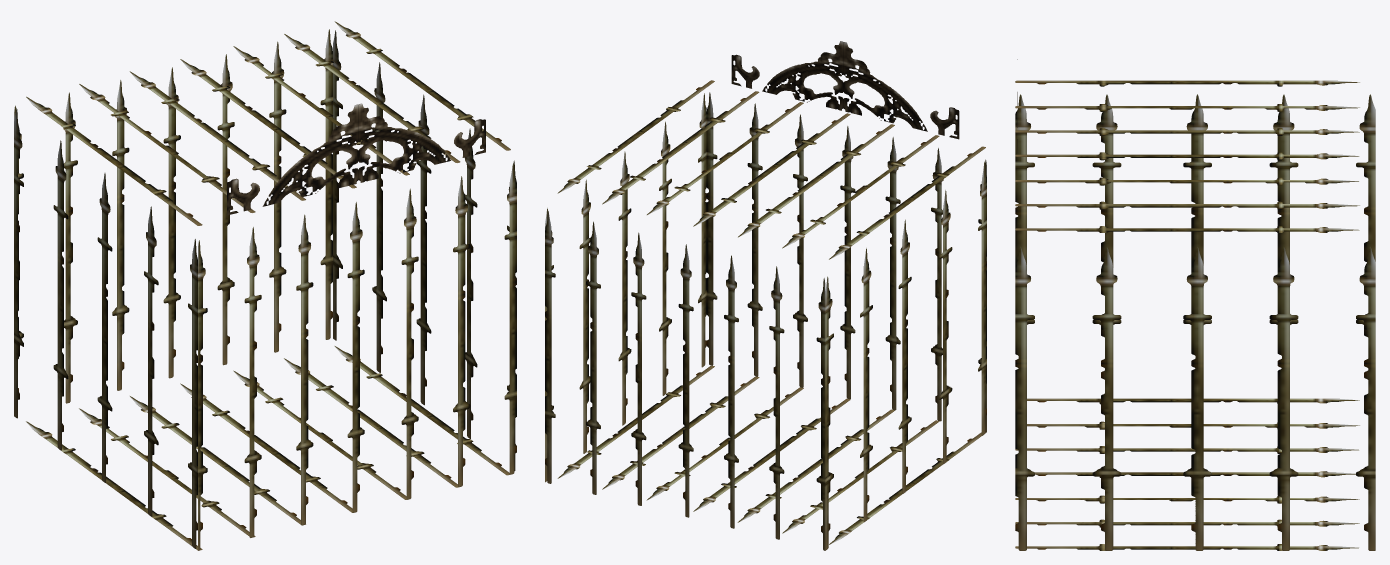
File: HouseEtc03.obj
The picture shows the model from 3 angles, left to right: view 1: azimuth 30°, elevation 25°; view 2: azimuth 150°, elevation 25°; view 3: azimuth 270°, elevation 25°; orthographic projection. The views are drawn at different scales.
Parts seen in each view (by area): view 1: Mesh_0, Mesh_1; view 2: Mesh_0, Mesh_1; view 3: Mesh_0.
Part boxes in pixels (x1,y1,x2,y2): Mesh_0: (14,21,516,550); Mesh_1: (227,103,485,215); Mesh_0: (545,80,986,550); Mesh_1: (731,41,959,139); Mesh_0: (1015,80,1375,550).
Size of the model in its own units: 2 by 2.44 by 2.
Materials: 2 (2 with a texture image).
